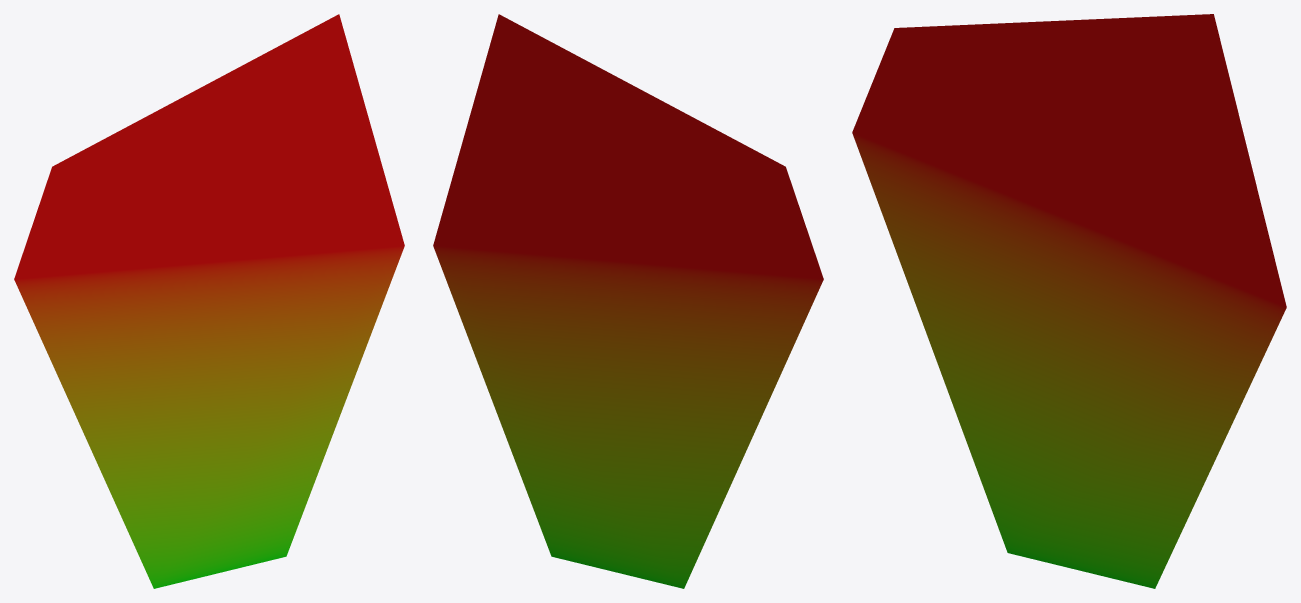
The model's file is Crownbeard_LOD4_Var1_tefoajkr.fbx.
3 views of the same model, side by side, from view 1: azimuth 30°, elevation 25°; view 2: azimuth 150°, elevation 25°; view 3: azimuth 330°, elevation 25° (orthographic). The views are drawn at different scales.
Parts seen in each view (by area): view 1: _adb8_Var1_LOD4; view 2: _adb8_Var1_LOD4; view 3: _adb8_Var1_LOD4.
Part boxes in pixels (x1,y1,x2,y2): _adb8_Var1_LOD4: (14,14,404,588); _adb8_Var1_LOD4: (433,14,823,588); _adb8_Var1_LOD4: (852,14,1286,588).
Bounding box in the file's own units: 67.27 × 87.15 × 4.29e-06.
